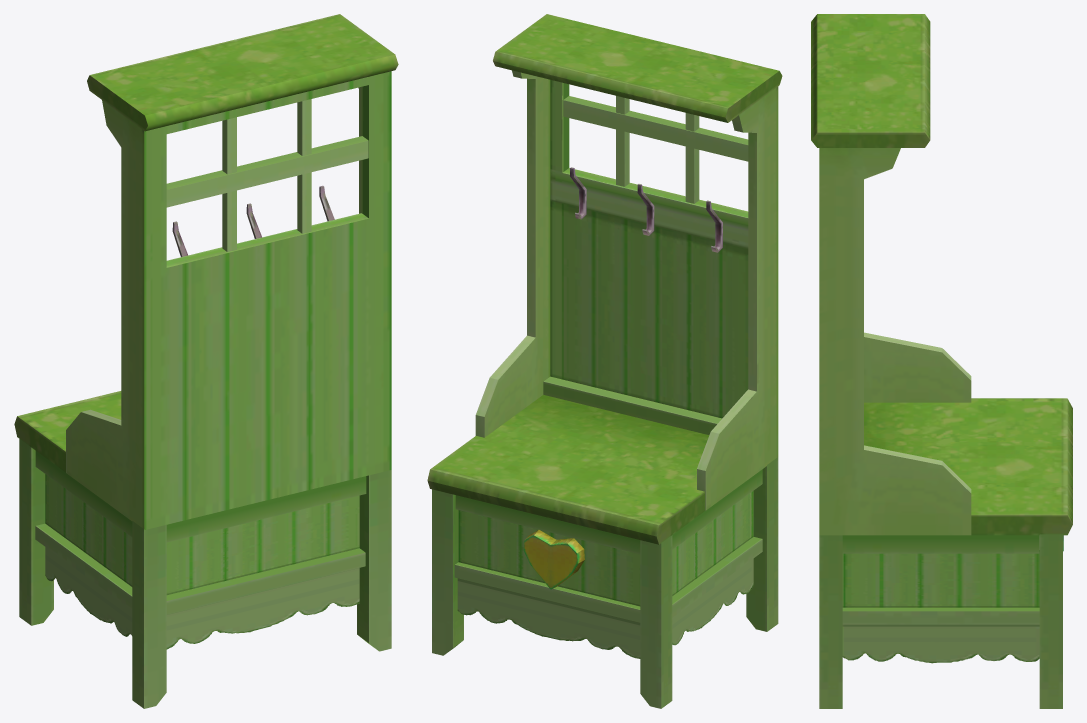
Rendered from furni_0200021_02.FBX.
3 renders of one model, left to right at view 1: azimuth 30°, elevation 25°; view 2: azimuth 150°, elevation 25°; view 3: azimuth 270°, elevation 25°, orthographic. The views are drawn at different scales.
Visible parts, largest first — view 1: furni_0200021_02; view 2: furni_0200021_02; view 3: furni_0200021_02.
Part boxes in pixels (x1,y1,x2,y2): furni_0200021_02: [14, 14, 398, 708]; furni_0200021_02: [427, 14, 782, 708]; furni_0200021_02: [811, 14, 1072, 708].
Size of the model in its own units: 79.83 by 181 by 74.33.
